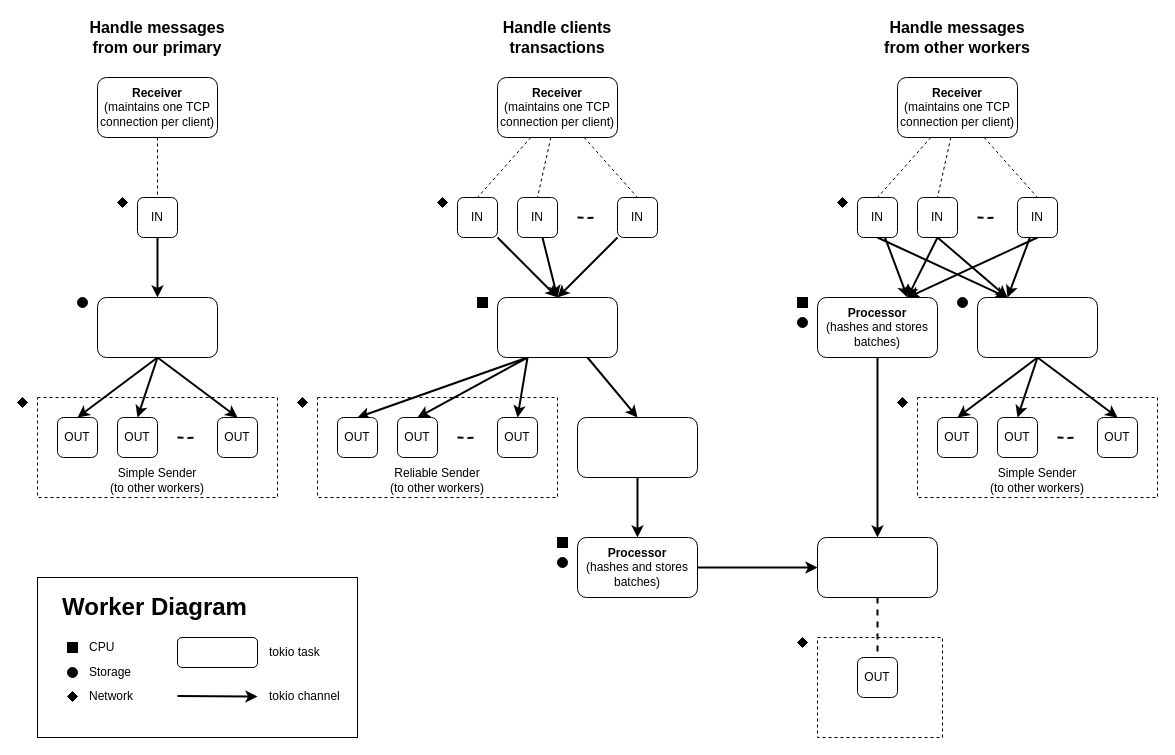
The diagram is 1175 pixels wide and 755 high, and some of its shapes have lost their labels. Each missing label, with the box of its shape:
Batch Maker (assembles txs into batches): (496, 296, 618, 358)
Helper (replies to batch requests): (976, 296, 1098, 358)
PrimaryConnector (sends batch digests to our primary): (816, 536, 938, 598)
QuorumWaiter (waits for a quorum to acks our batch): (576, 416, 698, 478)
Simple Sender (to our primary): (816, 636, 942, 738)
Synchronizer (requests missing batches): (96, 296, 218, 358)
